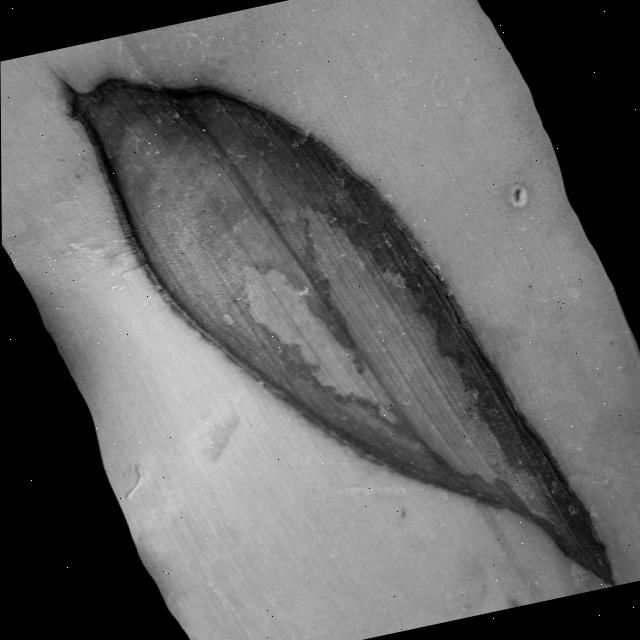mite: (386, 480, 530, 628), (497, 177, 554, 307), (486, 163, 546, 228), (381, 491, 422, 536), (51, 148, 90, 192), (499, 176, 537, 216), (505, 182, 531, 210), (390, 500, 415, 527), (65, 165, 89, 189), (520, 276, 541, 297), (562, 500, 581, 520), (504, 595, 525, 608), (396, 505, 409, 521), (71, 170, 83, 183), (525, 281, 536, 292)
sunburn: (59, 0, 618, 640)
